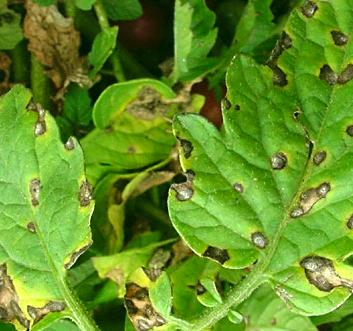Tomato leaf bacterial spot: (148, 0, 353, 305), (0, 51, 104, 331), (67, 66, 196, 189), (110, 264, 204, 331)
